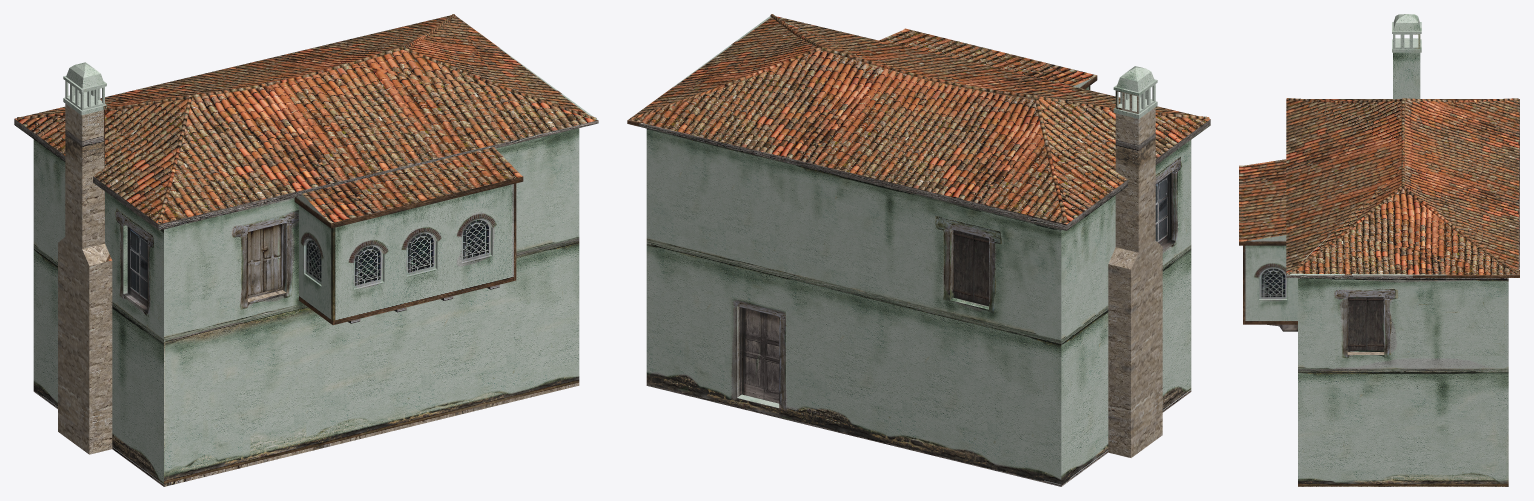
Rendered from ottoman2c.fbx.
3 renders of one model, left to right at view 1: azimuth 30°, elevation 25°; view 2: azimuth 150°, elevation 25°; view 3: azimuth 270°, elevation 25°, orthographic. The views are drawn at different scales.
Parts seen in each view (by area): view 1: Mesh1; view 2: Mesh1; view 3: Mesh1.
Part boxes in pixels (bbox=[...]): Mesh1: bbox=[14, 14, 598, 486]; Mesh1: bbox=[627, 14, 1210, 486]; Mesh1: bbox=[1239, 14, 1519, 486].
Size of the model in its own units: 2775 by 2210 by 1848.
